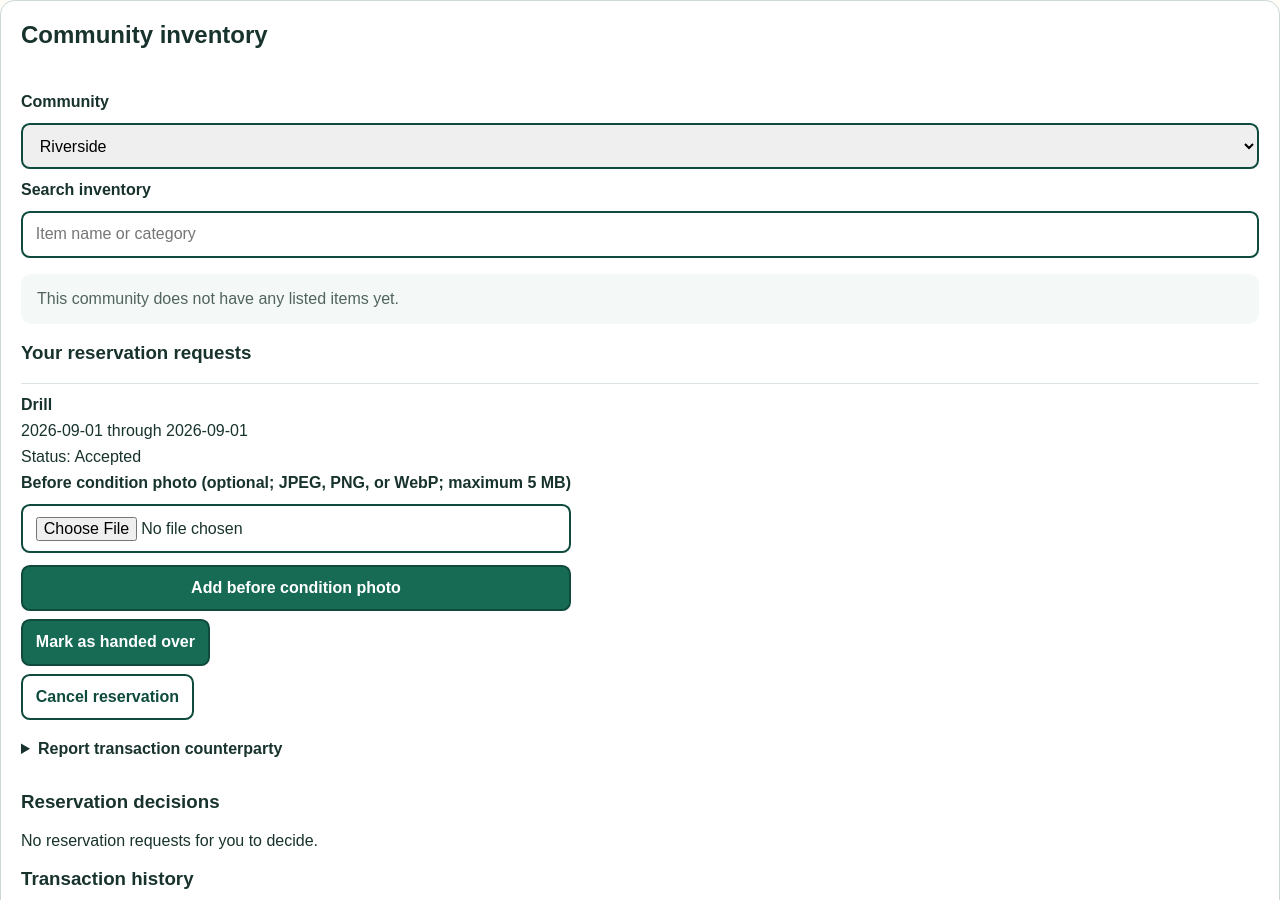
ItemSection › announces a stale cancellation rejection and refreshes authoritative state
Click the button with aria-label "Cancel reservation for Drill".
click(107, 697)  # box [21,674,194,720]
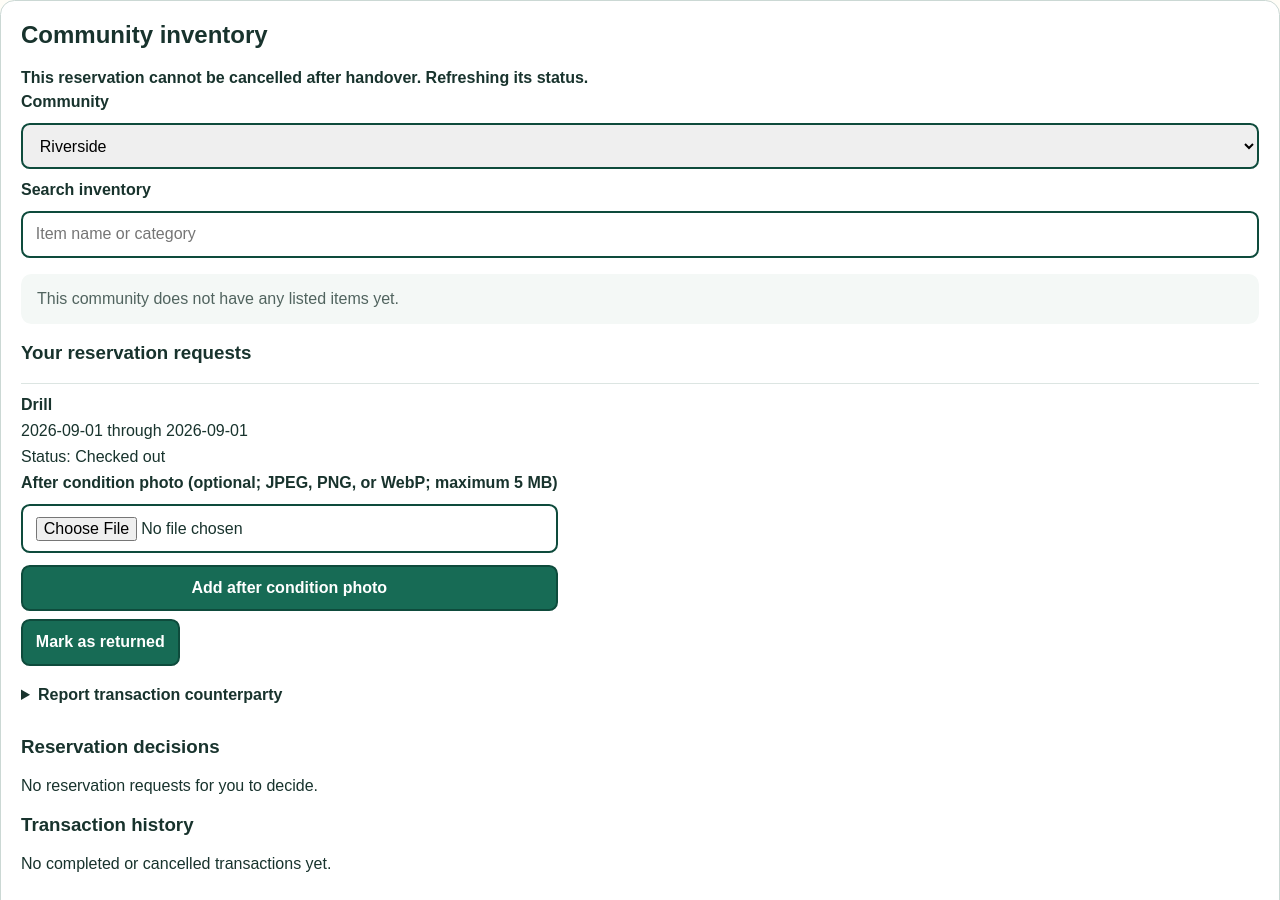
Now the message shows "cannot be cancelled after handover", box [21,69,588,86]
Now the text "Status: Checked out" is shown, box [21,448,165,466]
